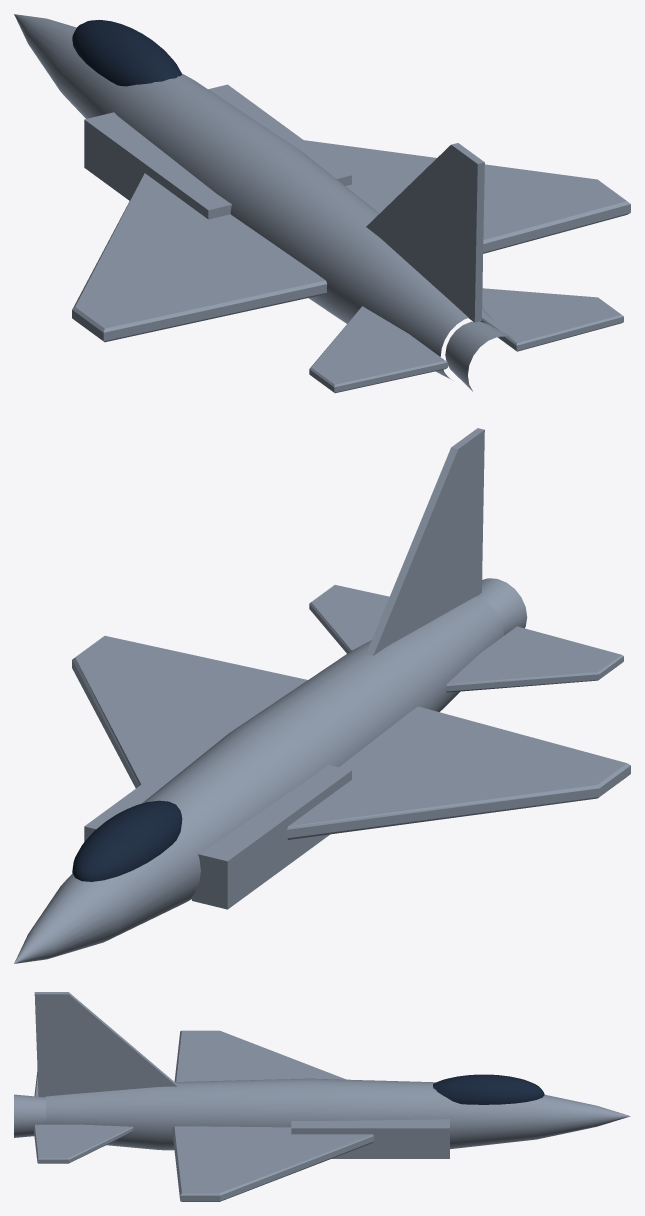
Rendered from jet.glb.
The picture shows the model from 3 angles, top to bottom: view 1: azimuth 30°, elevation 25°; view 2: azimuth 150°, elevation 25°; view 3: azimuth 270°, elevation 25°; orthographic projection. The views are drawn at different scales.
Parts seen in each view (by area): view 1: Fuselage, WingLeft, WingRight, Fin, IntakeLeft, TailplaneLeft, TailplaneRight, Canopy, IntakeRight, Nozzle; view 2: Fuselage, WingLeft, WingRight, Fin, IntakeLeft, TailplaneLeft, Canopy, TailplaneRight, IntakeRight, Nozzle; view 3: Fuselage, WingRight, Fin, WingLeft, IntakeRight, TailplaneRight, Canopy, Nozzle.
Part boxes in pixels (x1=…): Fuselage: x1=14, y1=14, x2=493, y2=380; WingLeft: x1=72, y1=173, x2=327, y2=342; WingRight: x1=304, y1=140, x2=630, y2=253; Fin: x1=366, y1=143, x2=484, y2=322; IntakeLeft: x1=84, y1=112, x2=231, y2=219; TailplaneLeft: x1=309, y1=306, x2=447, y2=393; TailplaneRight: x1=480, y1=288, x2=623, y2=351; Canopy: x1=72, y1=20, x2=181, y2=86; IntakeRight: x1=208, y1=84, x2=351, y2=185; Nozzle: x1=445, y1=321, x2=513, y2=391; Fuselage: x1=14, y1=596, x2=503, y2=963; WingLeft: x1=287, y1=706, x2=630, y2=839; WingRight: x1=72, y1=636, x2=307, y2=788; Fin: x1=366, y1=428, x2=484, y2=655; IntakeLeft: x1=192, y1=764, x2=351, y2=909; TailplaneLeft: x1=446, y1=626, x2=623, y2=692; Canopy: x1=72, y1=800, x2=182, y2=881; TailplaneRight: x1=309, y1=585, x2=389, y2=653; IntakeRight: x1=84, y1=735, x2=221, y2=841; Nozzle: x1=477, y1=578, x2=527, y2=635; Fuselage: x1=46, y1=1078, x2=630, y2=1150; WingRight: x1=172, y1=1126, x2=373, y2=1201; Fin: x1=34, y1=992, x2=177, y2=1096; WingLeft: x1=174, y1=1030, x2=346, y2=1081; IntakeRight: x1=291, y1=1119, x2=449, y2=1158; TailplaneRight: x1=33, y1=1124, x2=133, y2=1163; Canopy: x1=433, y1=1074, x2=544, y2=1104; Nozzle: x1=14, y1=1094, x2=45, y2=1137.
Bounding box in the file's own units: 10.3 × 4.6 × 16.35.
